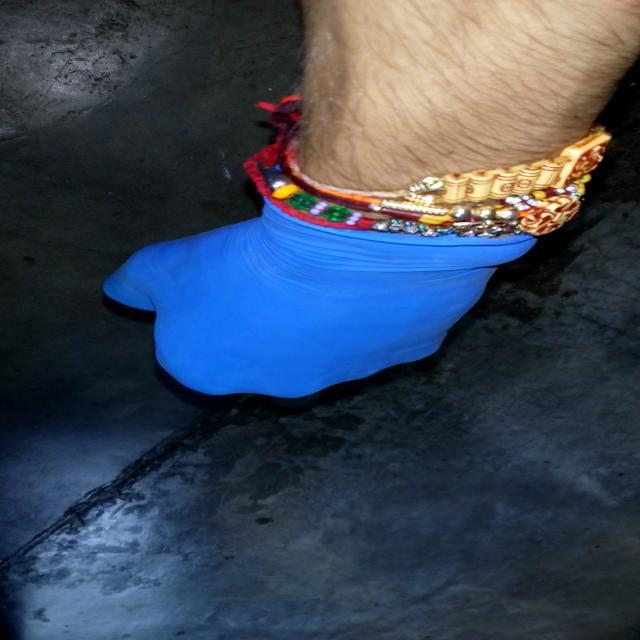gloved_hand: (88, 175, 555, 407)
